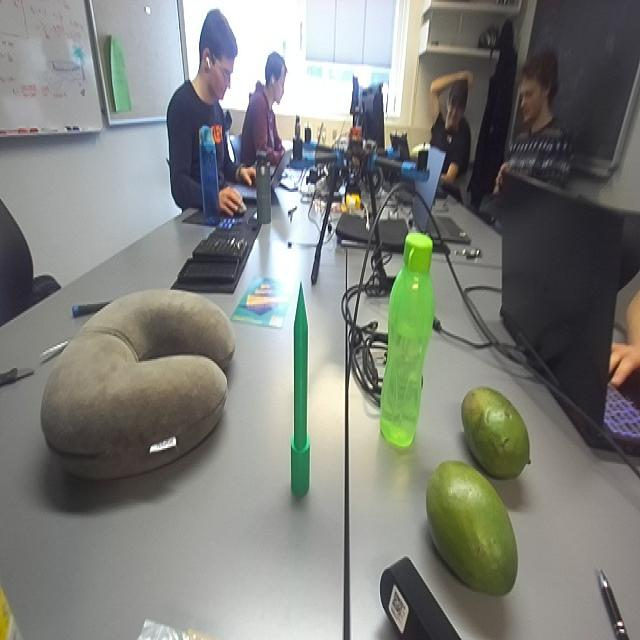probe: (290, 279, 314, 498)
